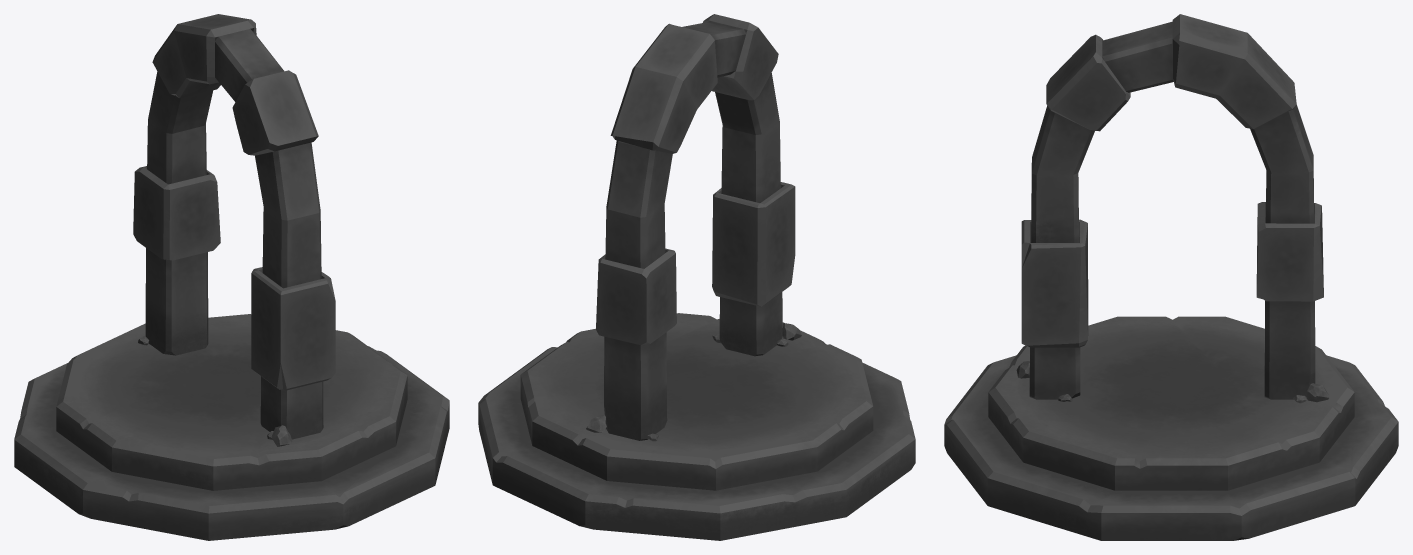
File: Portal.fbx
The picture shows the model from 3 angles, left to right: view 1: azimuth 30°, elevation 25°; view 2: azimuth 150°, elevation 25°; view 3: azimuth 270°, elevation 25°; orthographic projection. The views are drawn at different scales.
Visible parts, largest first — view 1: Cylinder.010; view 2: Cylinder.010; view 3: Cylinder.010.
Part boxes in pixels (x1=…): Cylinder.010: x1=14, y1=14, x2=449, y2=540; Cylinder.010: x1=478, y1=14, x2=915, y2=540; Cylinder.010: x1=944, y1=14, x2=1398, y2=540.
Size of the model in its own units: 291 by 318 by 306.
